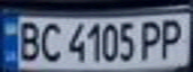0: (100, 20, 121, 62)
1: (84, 20, 103, 62)
4: (63, 19, 87, 63)
5: (115, 19, 139, 62)
B: (12, 18, 45, 63)
C: (36, 19, 63, 63)
P: (154, 16, 187, 61), (136, 17, 166, 61)
